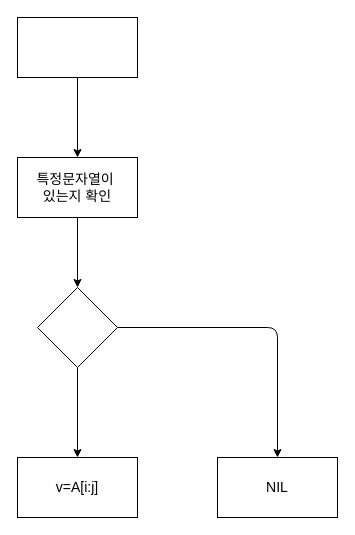
Some shapes in this 355 by 535 pixel diagram are drawn without their labels. The shapes that lost their labels are listed below. From the top down, each one's centre as x and y in pixels, then its label:
At point 77,47: "시작".
At point 77,327: "참/거짓".
